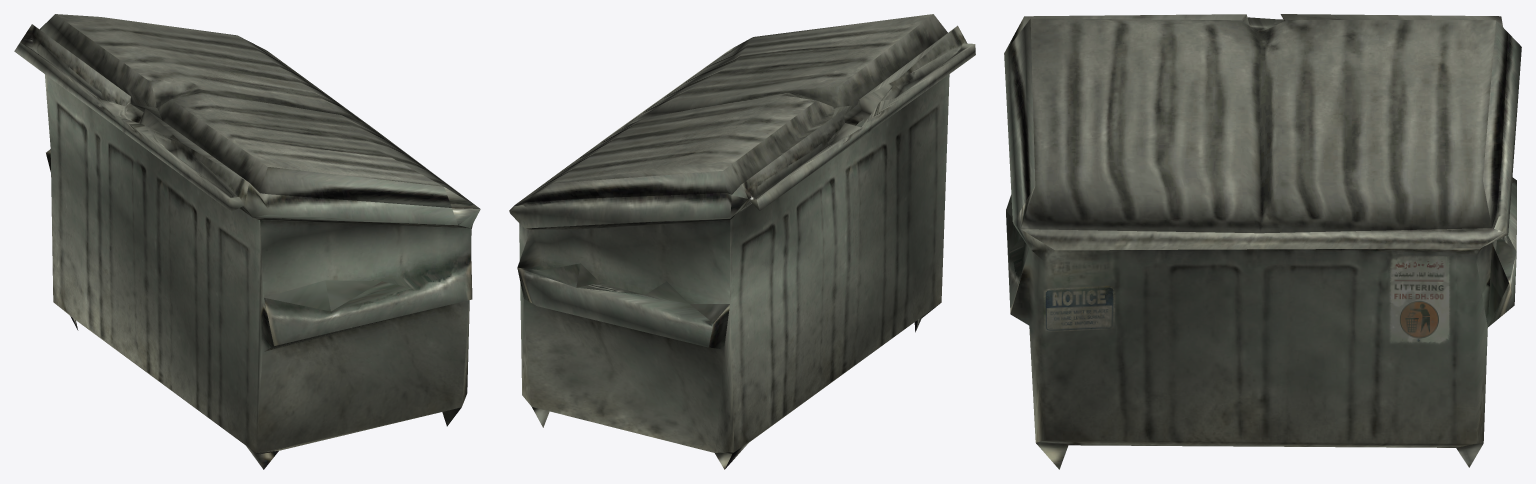
The model's file is T_TrashCan_01.fbx.
The picture shows the model from 3 angles, left to right: view 1: azimuth 30°, elevation 25°; view 2: azimuth 150°, elevation 25°; view 3: azimuth 270°, elevation 25°; orthographic projection. The views are drawn at different scales.
Parts seen in each view (by area): view 1: T_TrashCan_01, lid; view 2: T_TrashCan_01, lid; view 3: T_TrashCan_01, lid.
Part boxes in pixels (left/top/right/bottom): T_TrashCan_01: left=14, top=24, right=480, bottom=469; lid: left=40, top=14, right=479, bottom=208; T_TrashCan_01: left=509, top=25, right=975, bottom=469; lid: left=516, top=14, right=947, bottom=204; T_TrashCan_01: left=1004, top=14, right=1521, bottom=469; lid: left=1015, top=18, right=1508, bottom=233.
Bounding box in the file's own units: 133 × 154 × 208.
